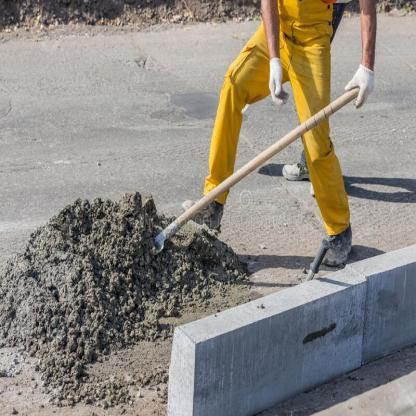bota: (179, 194, 227, 234), (321, 226, 356, 270), (280, 158, 310, 184)
